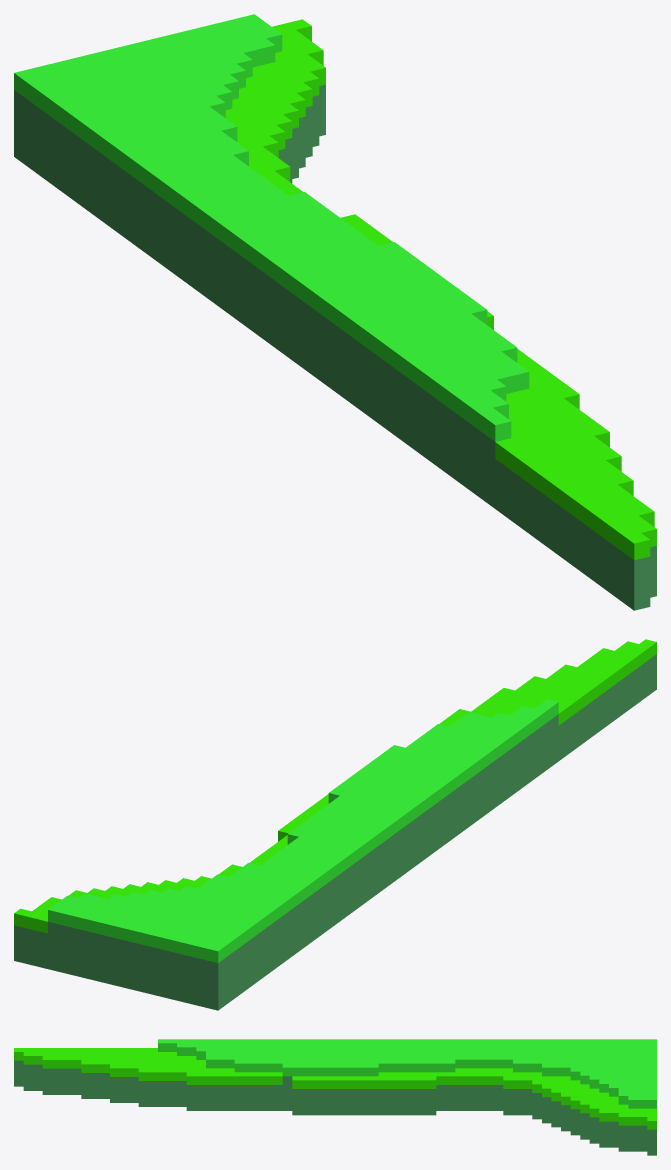
The model's file is TerrainPieces-11.obj.
3 renders of one model, top to bottom at view 1: azimuth 30°, elevation 25°; view 2: azimuth 150°, elevation 25°; view 3: azimuth 270°, elevation 25°, orthographic. The views are drawn at different scales.
Visible parts, largest first — view 1: TerrainPieces-11; view 2: TerrainPieces-11; view 3: TerrainPieces-11.
Part boxes in pixels (x1,y1,x2,y2): TerrainPieces-11: (14,14,656,610); TerrainPieces-11: (14,639,656,1010); TerrainPieces-11: (14,1039,656,1155).
Size of the model in its own units: 18 by 5 by 67.
Materials: 1 (1 with a texture image).
